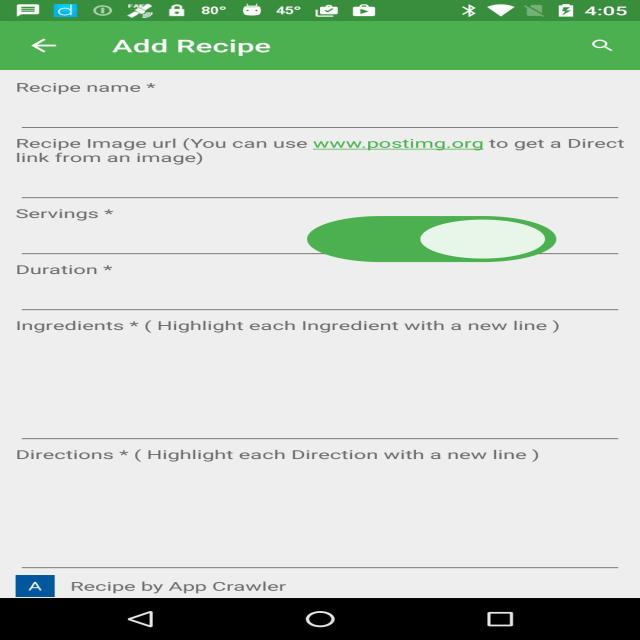social proof: (296, 198, 568, 284)
